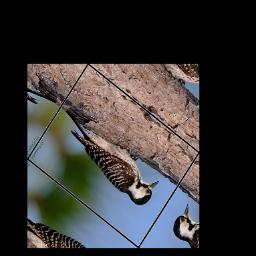Woodpecker: (45, 99, 167, 214)
